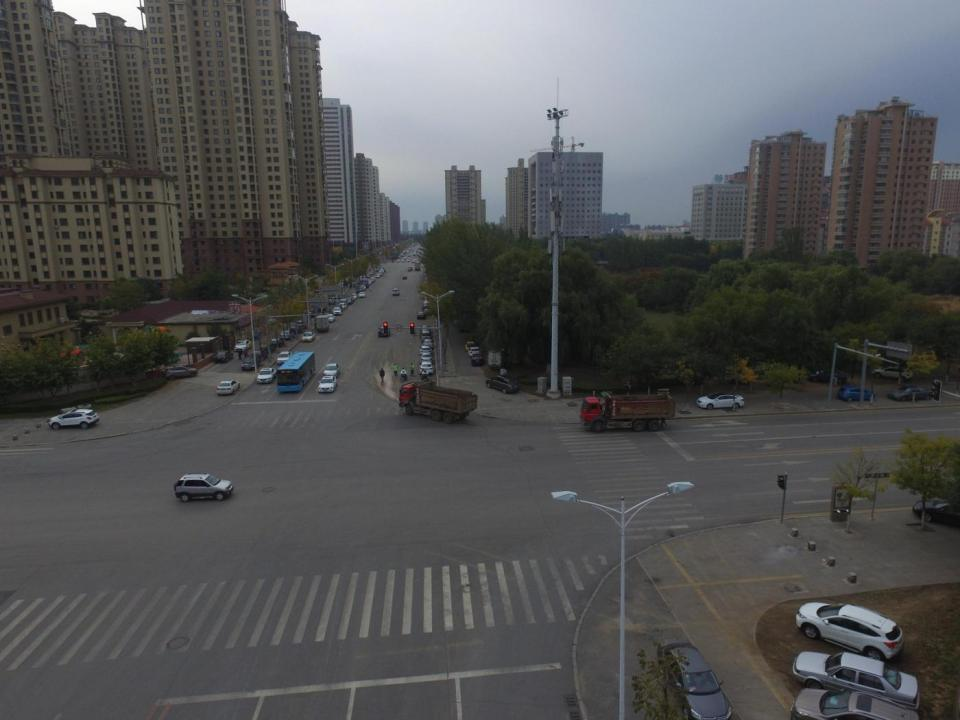bus: (276, 351, 317, 392)
car: (791, 647, 920, 714), (796, 598, 903, 661), (658, 639, 731, 720), (915, 494, 959, 532), (173, 474, 234, 501), (47, 408, 98, 430), (697, 390, 744, 412), (888, 384, 927, 402), (808, 367, 846, 385), (869, 365, 914, 380), (486, 376, 520, 395), (162, 365, 198, 380), (838, 388, 876, 402), (317, 374, 337, 394), (217, 380, 241, 396), (254, 366, 275, 384), (213, 350, 235, 363), (242, 356, 258, 371), (250, 350, 268, 362), (276, 352, 292, 365), (234, 338, 250, 351), (472, 354, 485, 367), (300, 331, 314, 343), (419, 362, 433, 374), (468, 346, 482, 358), (328, 296, 344, 306), (420, 351, 432, 364), (261, 341, 275, 352), (280, 329, 294, 340), (271, 336, 284, 347), (379, 326, 390, 338), (289, 324, 301, 335), (465, 341, 476, 352), (296, 320, 306, 331), (420, 345, 430, 355), (325, 314, 335, 323), (423, 338, 433, 347), (316, 304, 326, 313), (420, 325, 431, 333), (417, 312, 426, 320), (392, 289, 400, 297), (339, 302, 347, 310), (332, 308, 340, 316), (346, 297, 353, 304), (348, 296, 356, 302), (358, 292, 365, 298), (351, 294, 358, 300), (342, 301, 348, 307), (402, 276, 407, 280)
truck: (579, 392, 677, 433), (400, 379, 476, 424), (488, 343, 514, 370), (315, 314, 328, 332), (414, 262, 421, 270)
van: (421, 330, 431, 341)
